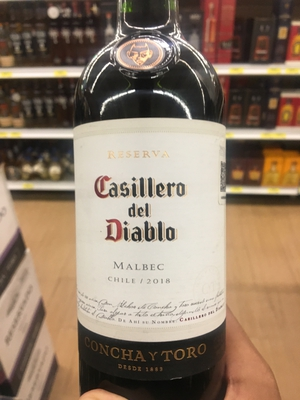casillero del diablo malbec: (61, 19, 239, 400)
